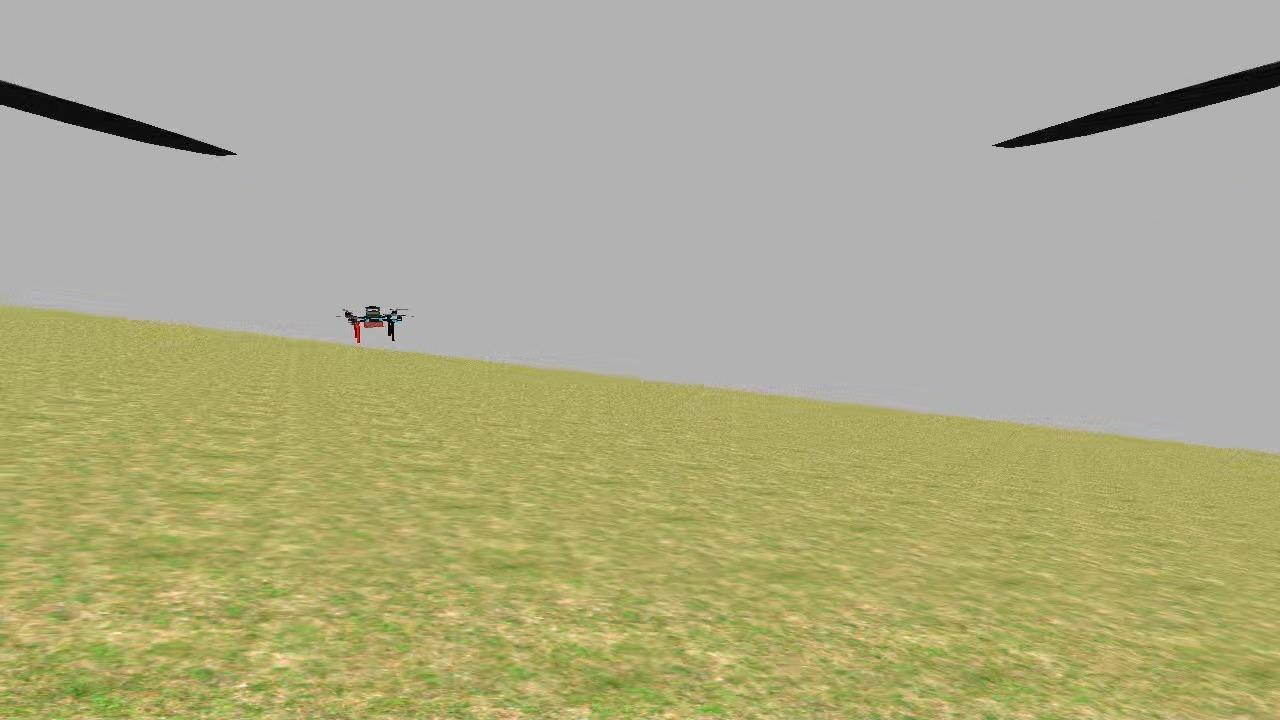UAV: (330, 292, 414, 346)
